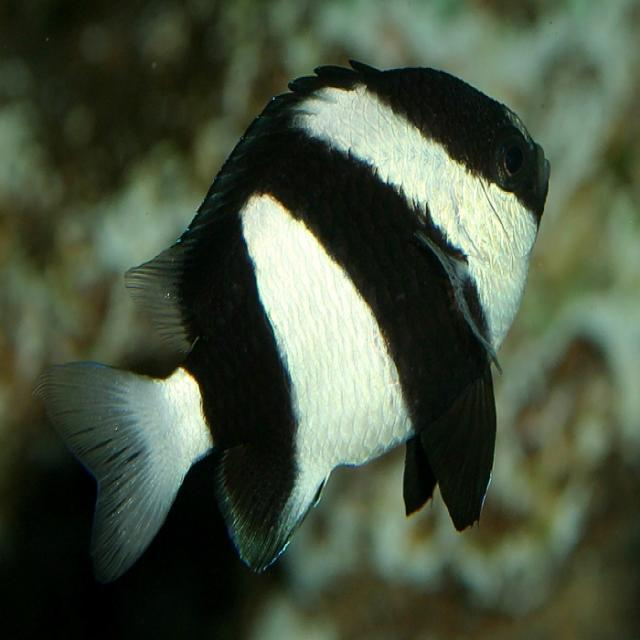Three_striped DasmselFish: (63, 56, 553, 591)
